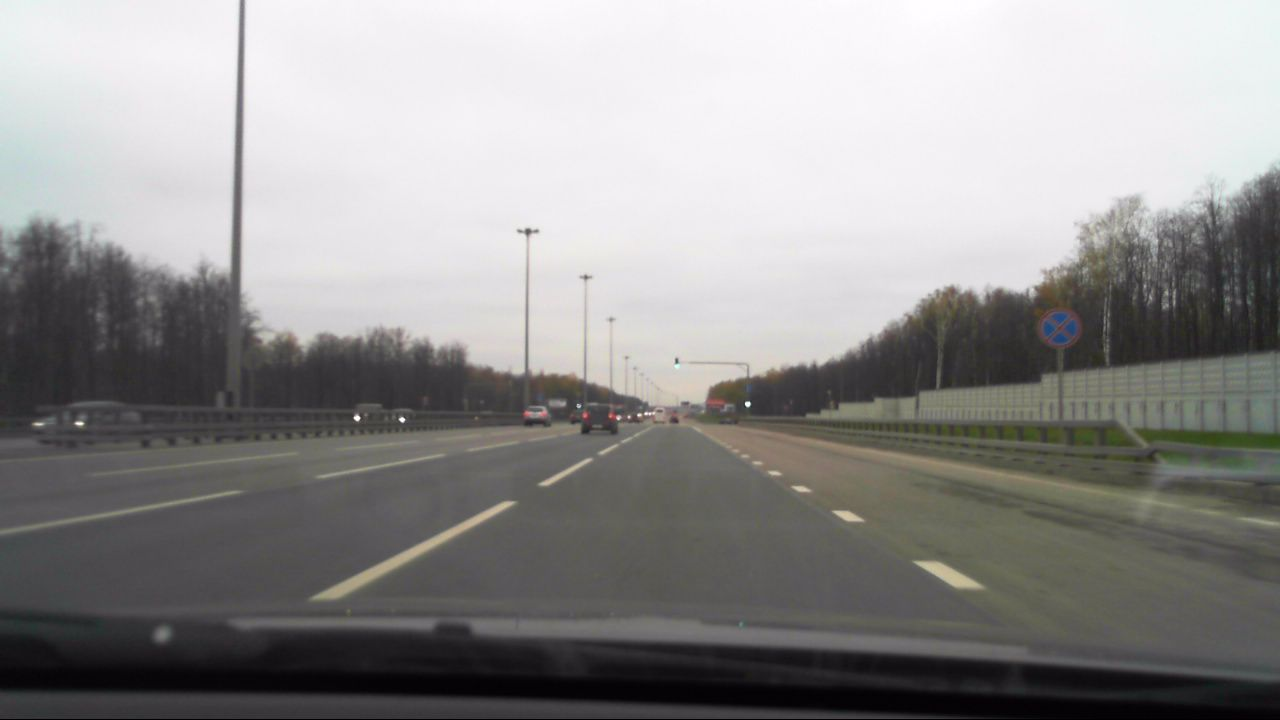No Parking: (1039, 309, 1082, 349)
